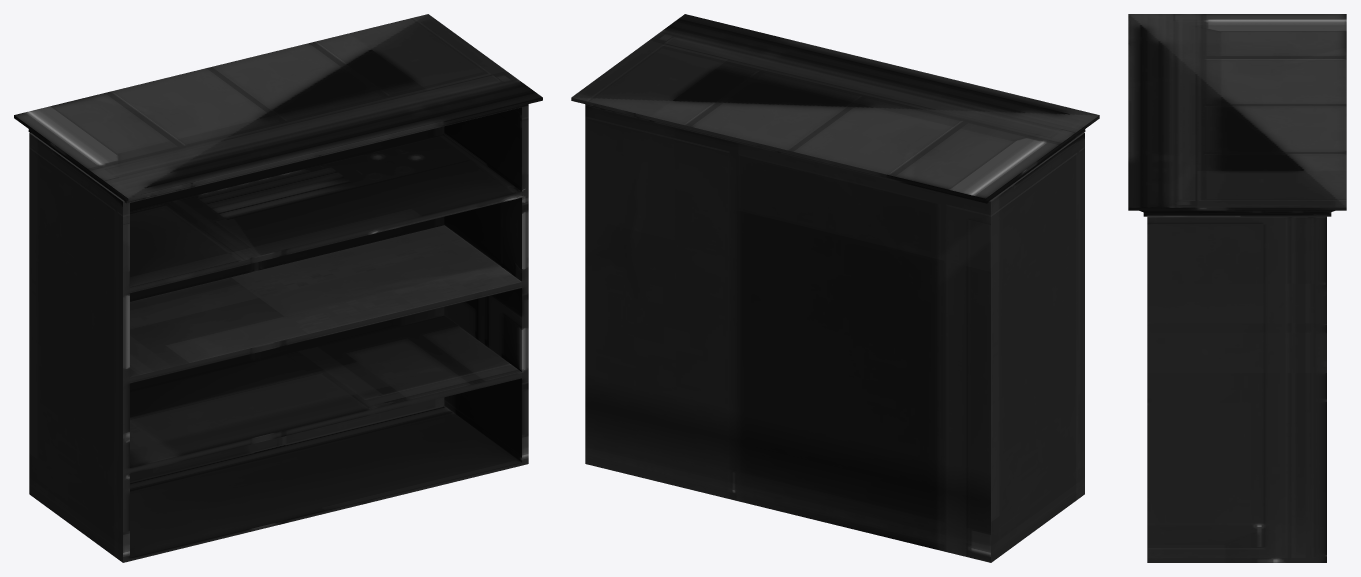
The model's file is RE_RBedShelfS.FBX.
3 views of the same model, side by side, from view 1: azimuth 30°, elevation 25°; view 2: azimuth 150°, elevation 25°; view 3: azimuth 270°, elevation 25° (orthographic). The views are drawn at different scales.
Parts seen in each view (by area): view 1: RE_RBedShelfS; view 2: RE_RBedShelfS; view 3: RE_RBedShelfS.
Boxes of the visible parts, left/top/right/bottom form: RE_RBedShelfS: left=14, top=14, right=542, bottom=562; RE_RBedShelfS: left=571, top=14, right=1099, bottom=562; RE_RBedShelfS: left=1128, top=14, right=1346, bottom=562.
Bounding box in the file's own units: 76.15 × 65.44 × 36.3.
Materials: 1 (1 with a texture image).
